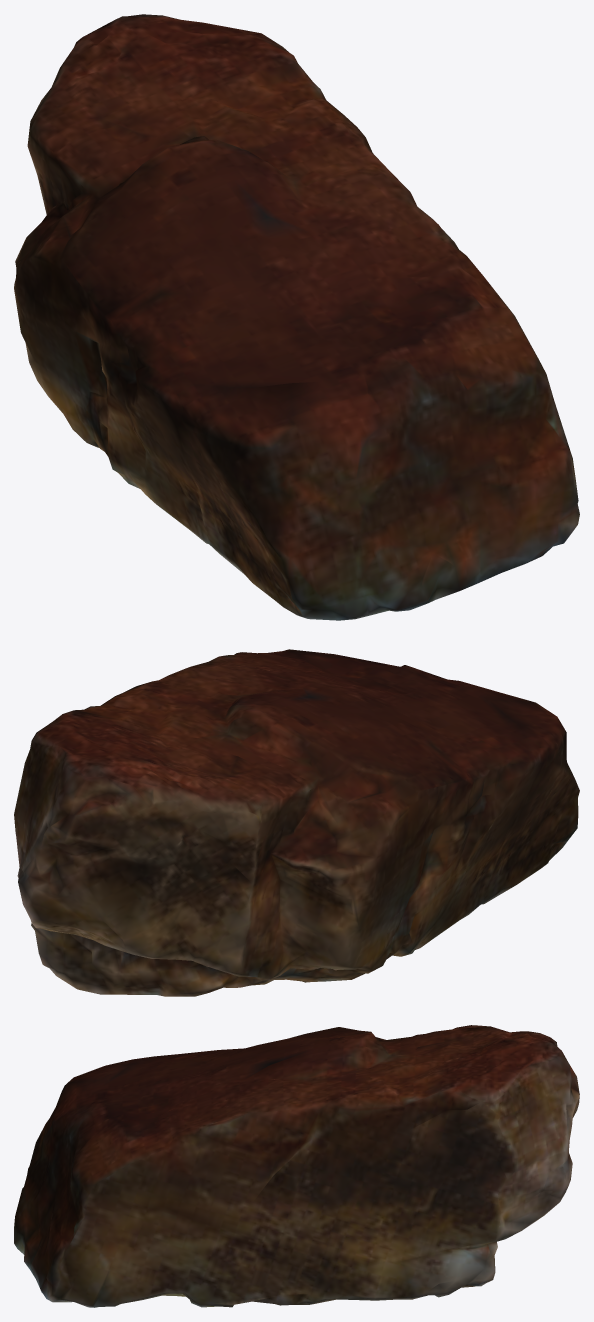
Rendered from rock_07_512_simplified.glb.
3 renders of one model, top to bottom at view 1: azimuth 30°, elevation 25°; view 2: azimuth 150°, elevation 25°; view 3: azimuth 270°, elevation 25°, orthographic. The views are drawn at different scales.
Parts seen in each view (by area): view 1: rock_07; view 2: rock_07; view 3: rock_07.
Boxes of the visible parts, bbox=[...] form: rock_07: bbox=[14, 14, 579, 620]; rock_07: bbox=[14, 649, 579, 996]; rock_07: bbox=[14, 1025, 579, 1307].
Size of the model in its own units: 0.1681 by 0.1437 by 0.3199.
1 material, 1 textured.
